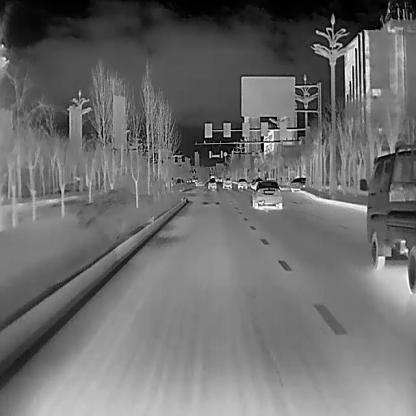car: (359, 142, 415, 295), (250, 180, 282, 208), (289, 176, 306, 192), (235, 177, 248, 189), (221, 175, 232, 189), (206, 177, 217, 189)
